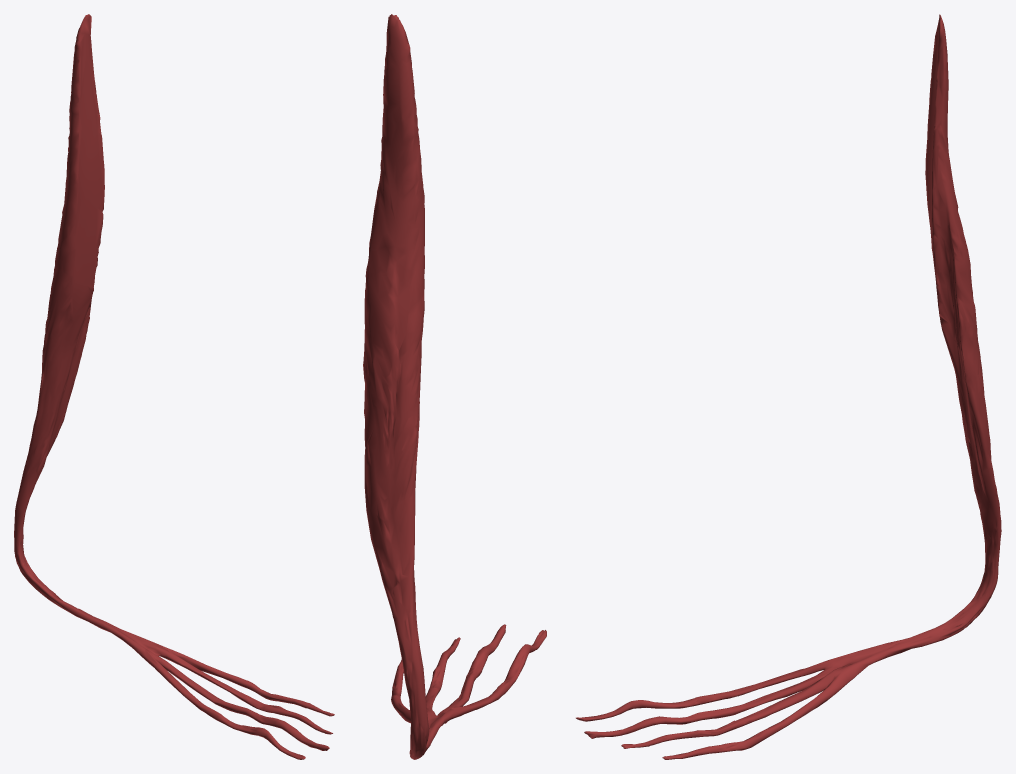
File: flexor-digitorum-longus-l.glb
3 renders of one model, left to right at view 1: azimuth 30°, elevation 25°; view 2: azimuth 150°, elevation 25°; view 3: azimuth 270°, elevation 25°, orthographic. The views are drawn at different scales.
Parts seen in each view (by area): view 1: Flexor digitorum longus.l; view 2: Flexor digitorum longus.l; view 3: Flexor digitorum longus.l.
Boxes of the visible parts, <box> form: Flexor digitorum longus.l: <box>14,14,334,759</box>; Flexor digitorum longus.l: <box>363,14,546,759</box>; Flexor digitorum longus.l: <box>576,14,1001,759</box>.
Bounding box in the file's own units: 0.0945 × 0.3436 × 0.1931.
